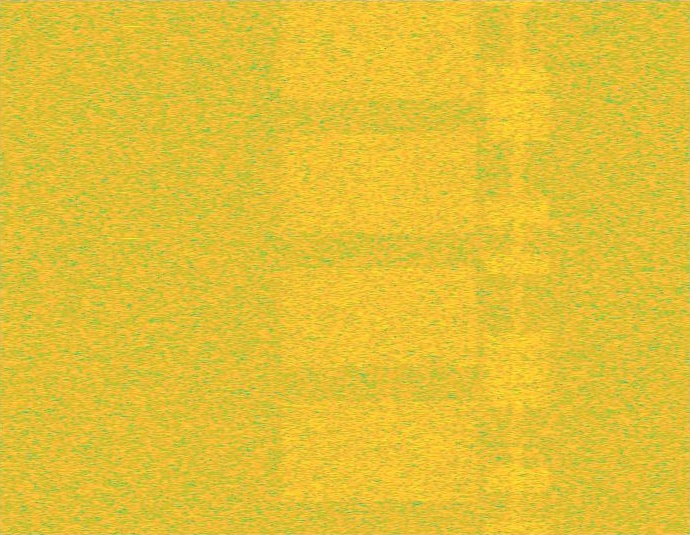5G: (276, 0, 483, 534)
DSSS: (510, 0, 525, 534)
LTE: (483, 0, 552, 534)
Radar: (125, 0, 139, 534)
